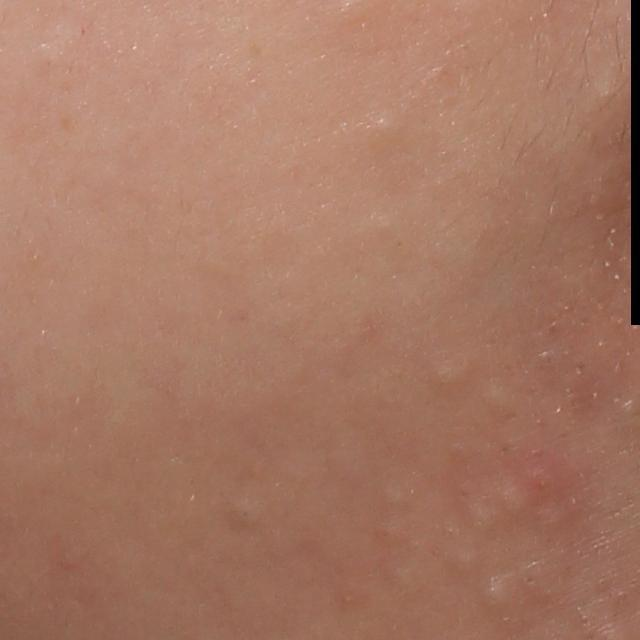comedo: (225, 492, 278, 536), (435, 361, 481, 391), (481, 575, 513, 612), (374, 114, 399, 140)
